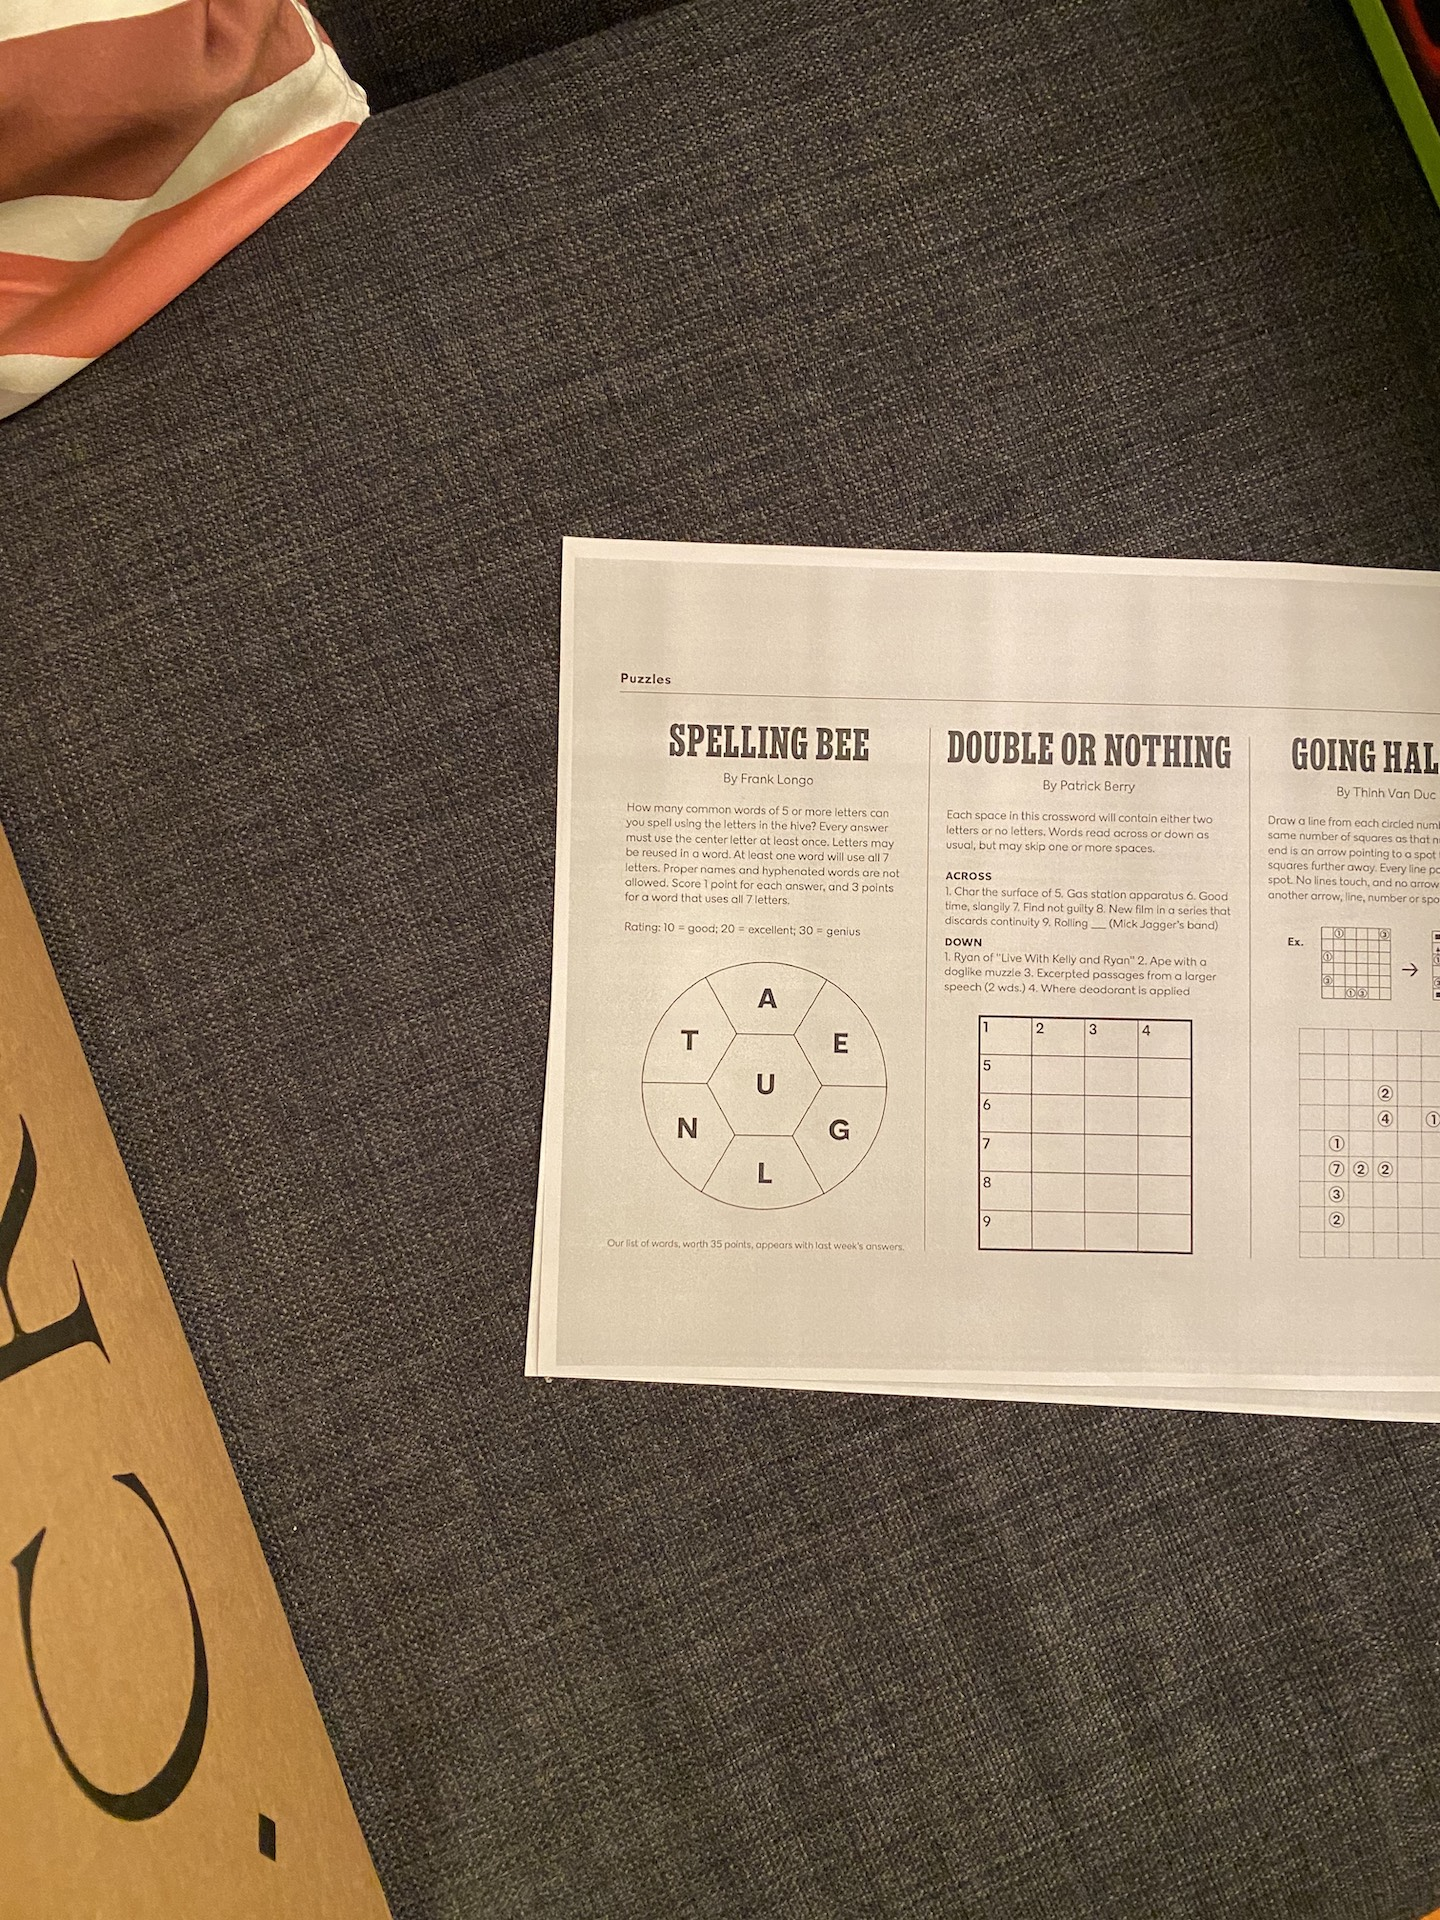PrintBoard: (629, 954, 902, 1219)
